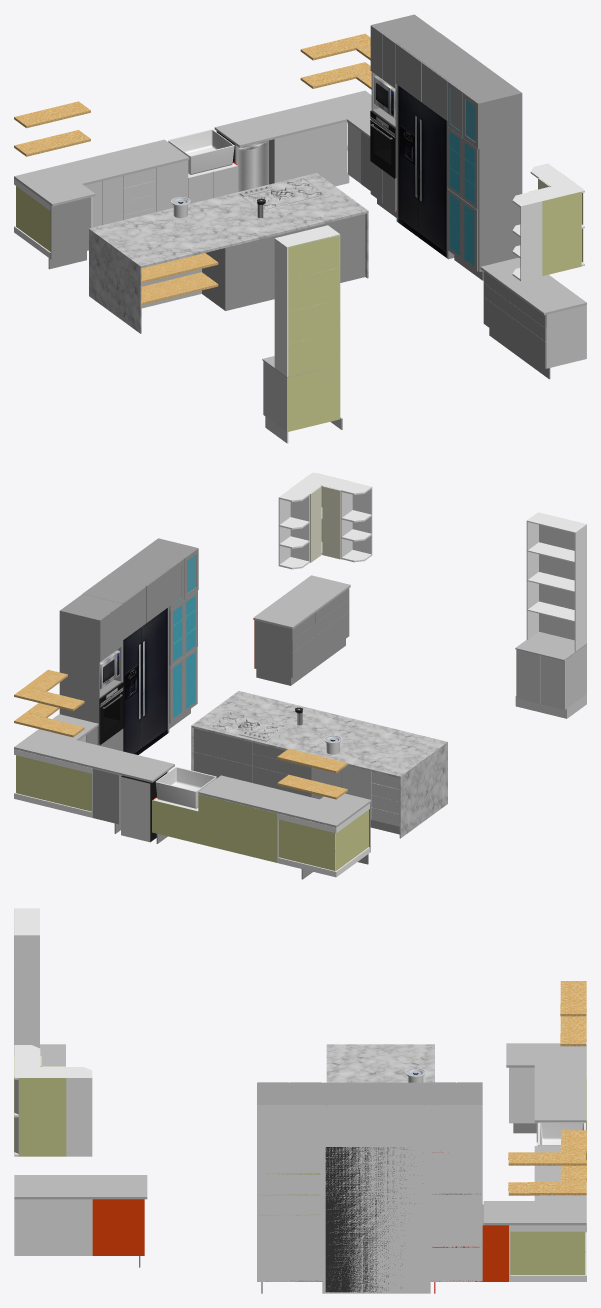
Rendered from Heidi.glb.
3 renders of one model, top to bottom at view 1: azimuth 30°, elevation 25°; view 2: azimuth 150°, elevation 25°; view 3: azimuth 270°, elevation 25°, orthographic. The views are drawn at different scales.
Visible parts, largest first — view 1: G-Object.095, G-Object.163, G-Object.055, G-Object.045, G-Object.090, G-Object.069, G-Object.074, G-Object.096, C-FloorBack720#3, G-Object.151, G-Object.044, C-FloorSide720#12 (+43 smaller); view 2: G-Object.095, G-Object.045, G-Object.023, G-Object.074, G-Object.069, G-Object.096, C-back2#1, G-Object.163, G-Object.151, C-back1, _G-Object.068 (Loose Mesh), G-Object.044 (+49 smaller); view 3: _G-Object.039 (Loose Mesh), _G-Object.052 (Loose Mesh), _G-Object.019 (Loose Mesh), G-Object.045, C-FloorBack720#1.002, G-Object.069, G-Object.095, C-FloorBack720#3.001, G-Object.151, C-back1.001, C-FloorBack720#1.003, G-Object.009 (+21 smaller).
Part boxes in pixels (bbox=[...]): G-Object.095: bbox=[89, 173, 368, 268]; G-Object.163: bbox=[288, 234, 340, 377]; G-Object.055: bbox=[478, 94, 522, 270]; G-Object.045: bbox=[398, 85, 446, 257]; G-Object.090: bbox=[224, 214, 365, 310]; G-Object.069: bbox=[14, 139, 189, 196]; G-Object.074: bbox=[214, 90, 371, 147]; G-Object.096: bbox=[89, 231, 141, 333]; C-FloorBack720#3: bbox=[542, 191, 581, 275]; G-Object.151: bbox=[480, 257, 586, 315]; G-Object.044: bbox=[397, 32, 490, 80]; C-FloorSide720#12: bbox=[546, 305, 586, 368]; G-Object.095: bbox=[191, 691, 447, 778]; G-Object.045: bbox=[123, 608, 167, 754]; G-Object.023: bbox=[59, 612, 99, 745]; G-Object.074: bbox=[14, 730, 174, 782]; G-Object.069: bbox=[198, 775, 359, 827]; G-Object.096: bbox=[399, 744, 447, 838]; C-back2#1: bbox=[16, 755, 91, 811]; G-Object.163: bbox=[539, 514, 579, 640]; G-Object.151: bbox=[253, 575, 350, 629]; C-back1: bbox=[278, 819, 335, 870]; _G-Object.068 (Loose Mesh): bbox=[121, 771, 168, 842]; G-Object.044: bbox=[82, 559, 168, 603]; _G-Object.039 (Loose Mesh): bbox=[322, 1105, 430, 1293]; _G-Object.052 (Loose Mesh): bbox=[257, 1105, 322, 1281]; _G-Object.019 (Loose Mesh): bbox=[430, 1105, 482, 1281]; G-Object.045: bbox=[325, 1147, 411, 1292]; C-FloorBack720#1.002: bbox=[14, 1199, 92, 1255]; G-Object.069: bbox=[534, 1043, 586, 1122]; G-Object.095: bbox=[326, 1044, 434, 1082]; C-FloorBack720#3.001: bbox=[18, 1078, 66, 1156]; G-Object.151: bbox=[14, 1175, 147, 1199]; C-back1.001: bbox=[510, 1231, 584, 1274]; C-FloorBack720#1.003: bbox=[92, 1199, 144, 1255]; G-Object.009: bbox=[14, 935, 39, 1055].
Bounding box in the file's own units: 4.9 × 2.62 × 6.6.
54 materials, 17 textured.
